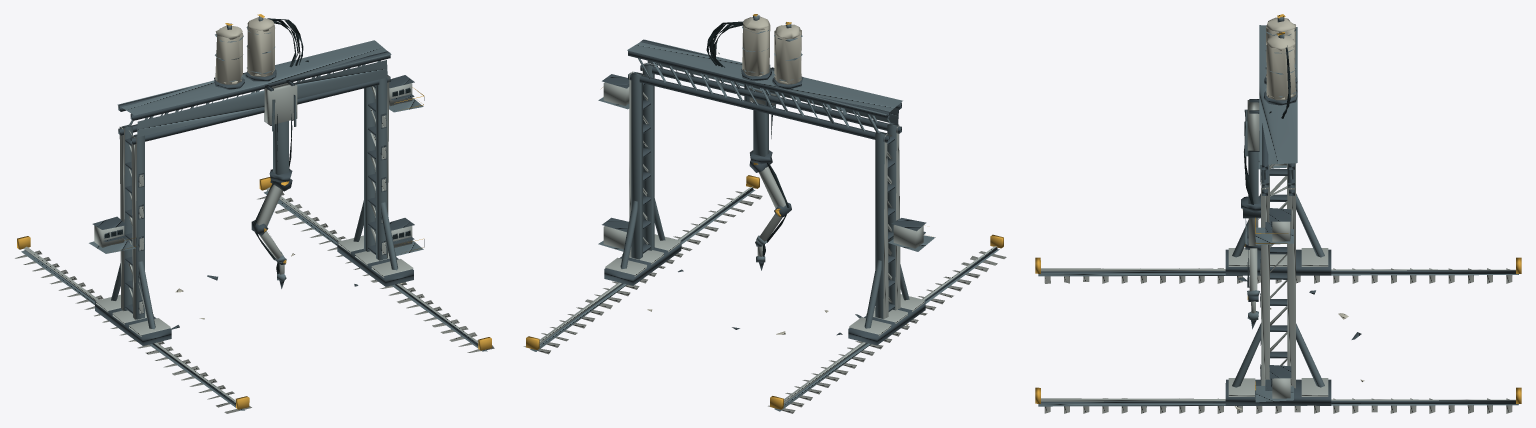
Rendered from terraformer_3000_d1_lod2.glb.
3 views of the same model, side by side, from view 1: azimuth 30°, elevation 25°; view 2: azimuth 150°, elevation 25°; view 3: azimuth 270°, elevation 25° (orthographic). The views are drawn at different scales.
Parts seen in each view (by area): view 1: TERRAFORMER_3000_LOD2_STATIC_GEOMETRY; view 2: TERRAFORMER_3000_LOD2_STATIC_GEOMETRY; view 3: TERRAFORMER_3000_LOD2_STATIC_GEOMETRY.
Boxes of the visible parts, <box> form: TERRAFORMER_3000_LOD2_STATIC_GEOMETRY: <box>15,14,494,413</box>; TERRAFORMER_3000_LOD2_STATIC_GEOMETRY: <box>523,14,1006,413</box>; TERRAFORMER_3000_LOD2_STATIC_GEOMETRY: <box>1035,14,1521,413</box>.
Bounding box in the file's own units: 42.04 × 36.02 × 50.59.
